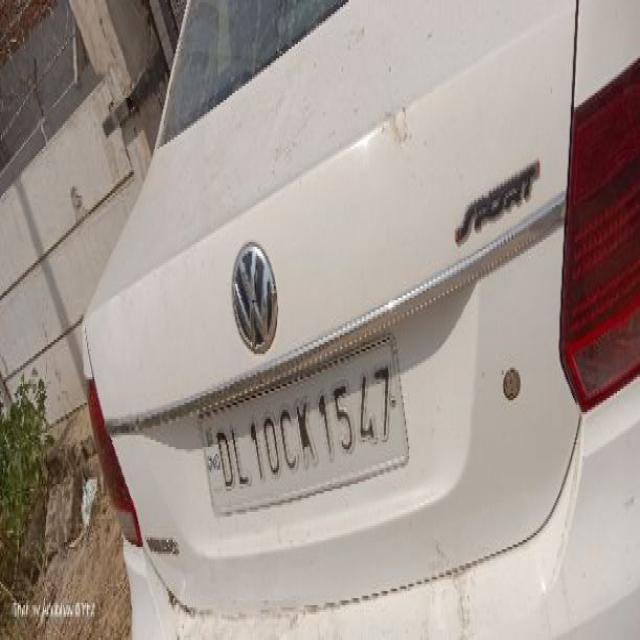license_plate: (80, 0, 634, 621), (198, 328, 410, 517)
